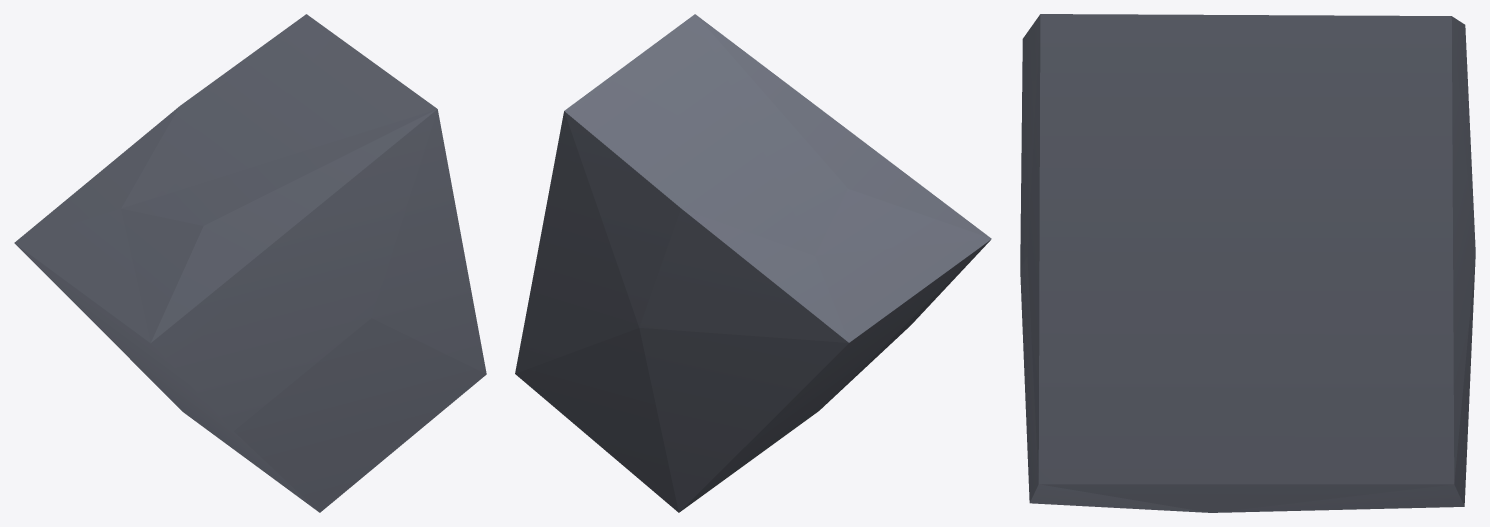
The model's file is Ruins_05.fbx.
3 views of the same model, side by side, from view 1: azimuth 30°, elevation 25°; view 2: azimuth 150°, elevation 25°; view 3: azimuth 270°, elevation 25° (orthographic). The views are drawn at different scales.
Visible parts, largest first — view 1: Ruins_05; view 2: Ruins_05; view 3: Ruins_05.
Boxes of the visible parts, x1=… form: Ruins_05: x1=14, y1=14, x2=486, y2=512; Ruins_05: x1=515, y1=14, x2=991, y2=512; Ruins_05: x1=1020, y1=14, x2=1475, y2=512.
Bounding box in the file's own units: 0.525 × 0.5482 × 0.3876.
